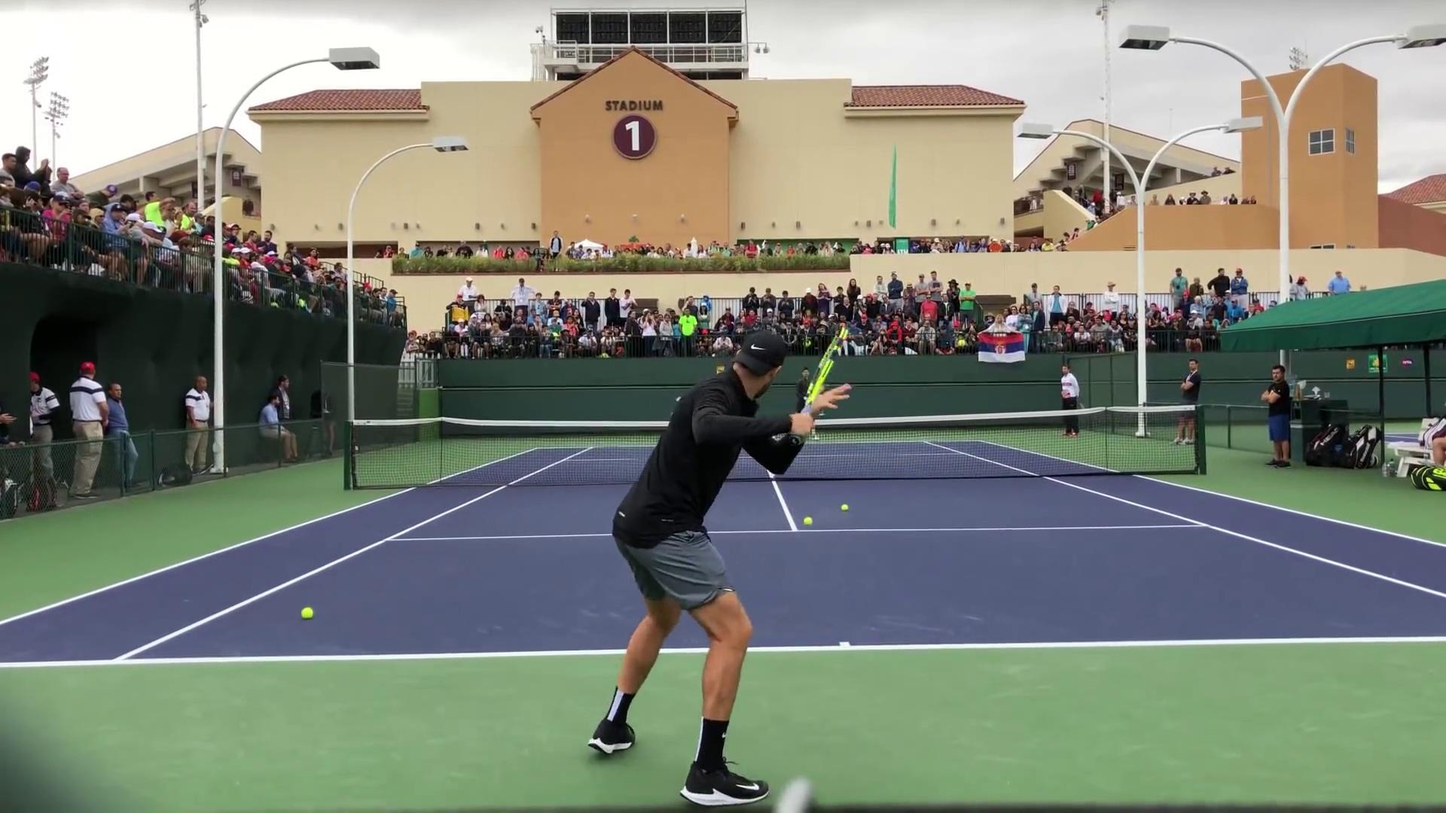ball: (302, 606, 316, 621), (802, 513, 816, 527), (840, 504, 850, 511)
